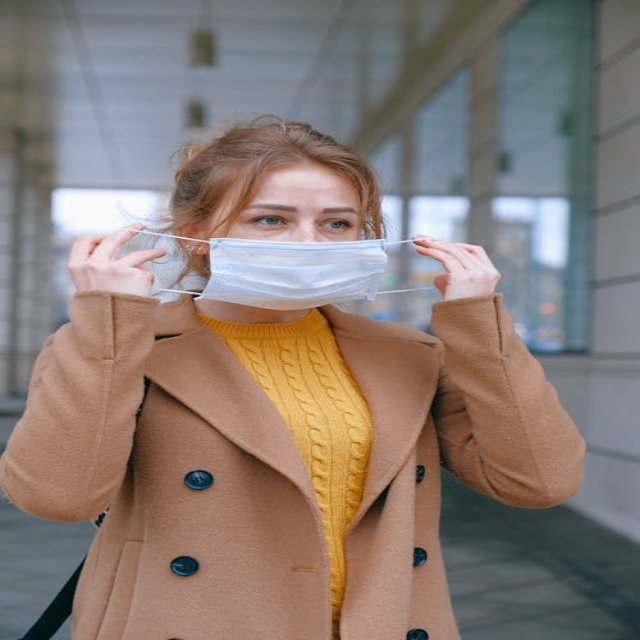Mascara: (187, 234, 394, 310)
Sin_gafas: (251, 201, 355, 234)
Sin_guantes: (64, 221, 172, 292), (406, 232, 504, 294)
